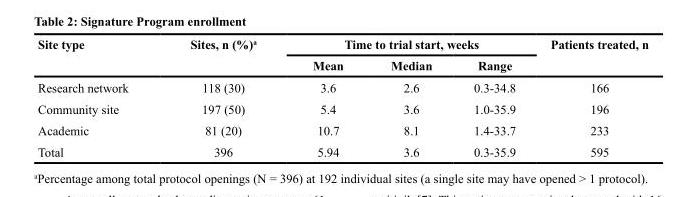table: (37, 36, 648, 158)
table column: (158, 36, 283, 158), (37, 36, 158, 158), (532, 36, 648, 158), (366, 36, 452, 158), (283, 36, 366, 158), (452, 36, 532, 158)
table column header: (37, 36, 648, 76)
table row: (37, 54, 648, 76), (37, 76, 648, 98), (37, 98, 648, 119), (37, 119, 648, 140), (37, 36, 648, 54), (37, 140, 648, 158)
table spanning cell: (158, 36, 283, 76), (37, 36, 158, 76), (532, 36, 648, 76), (283, 36, 532, 54)
